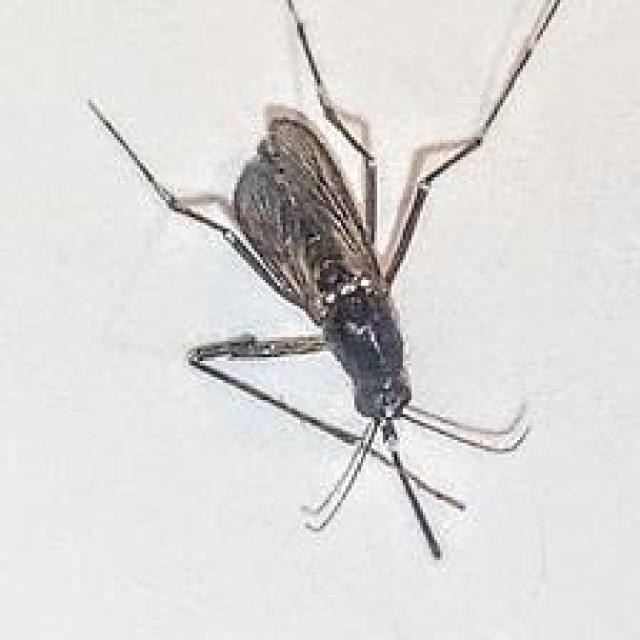Aedes albopictus: (83, 0, 588, 560)
